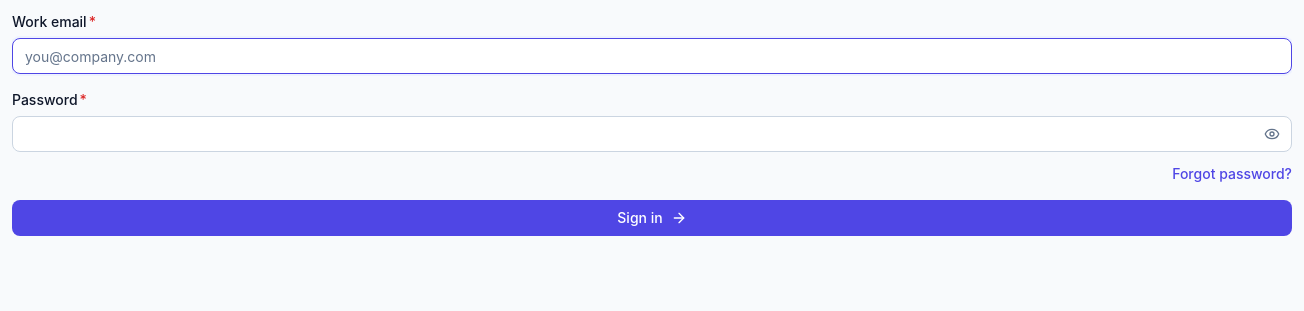
Test: SignInForm › reports a network failure without navigating
Type "ada@example.com" into the field labelled "Work email*".
click(652, 56); type("ada@example.com")  # box [12,38,1292,74]
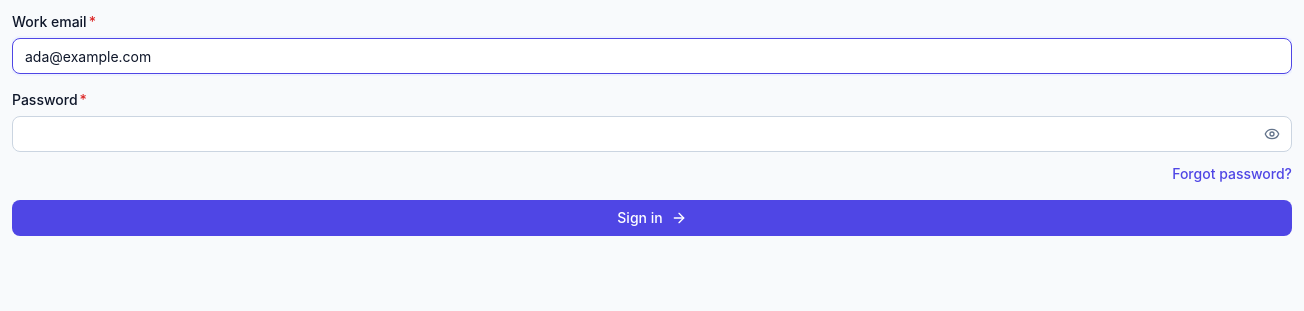
Type "secret-password" into the password field labelled "Password*".
click(652, 134); type("secret-password")  # box [12,116,1292,152]
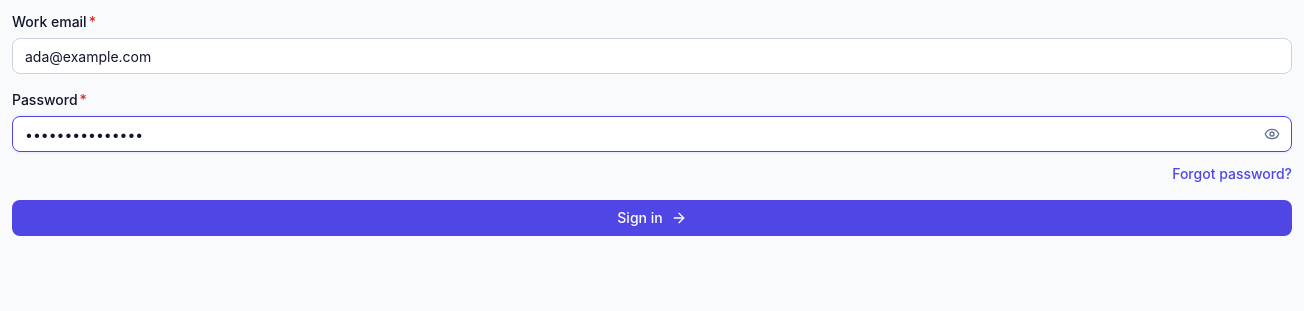
Click the button "Sign in".
click(652, 218)  # box [12,200,1292,236]
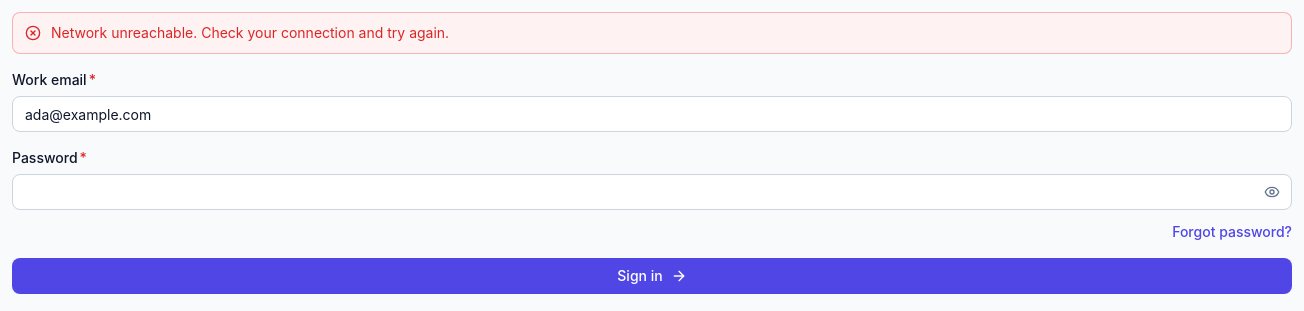
Now the text "Network unreachable. Check your connection and try again." is shown, box [51,23,449,43]
